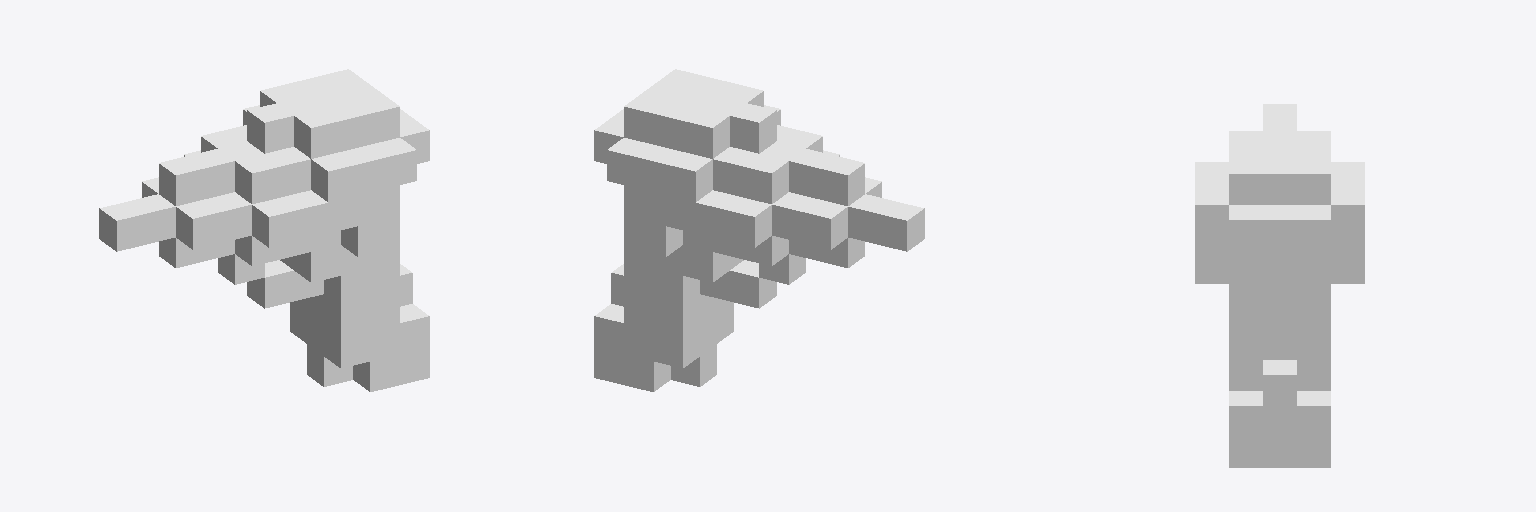
Rendered from teleport_gun_used1.obj.
3 renders of one model, left to right at view 1: azimuth 30°, elevation 25°; view 2: azimuth 150°, elevation 25°; view 3: azimuth 270°, elevation 25°, orthographic.
Parts seen in each view (by area): view 1: object 1; view 2: object 1; view 3: object 1.
Part boxes in pixels (x1,y1,x2,y2): object 1: (99, 69, 429, 391); object 1: (594, 69, 924, 391); object 1: (1195, 104, 1364, 467).
Size of the model in its own units: 1 by 0.9 by 0.5.